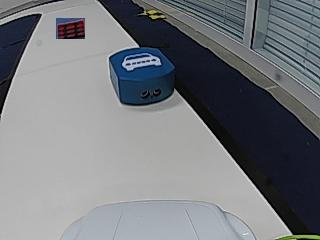safety: (121, 52, 162, 70)
